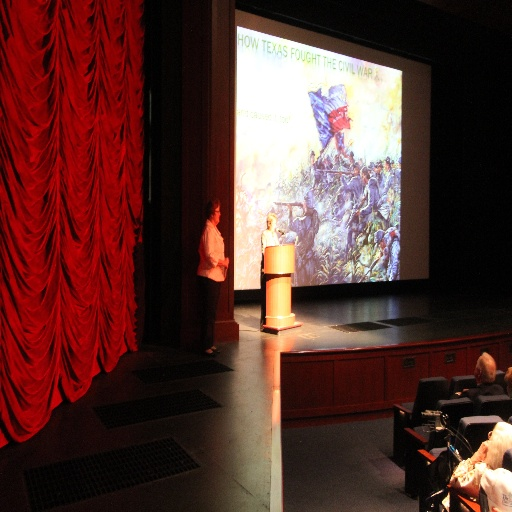hand: (224, 254, 229, 269)
